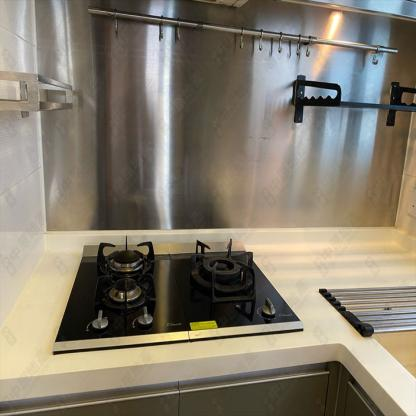Stove: (48, 234, 303, 356)
